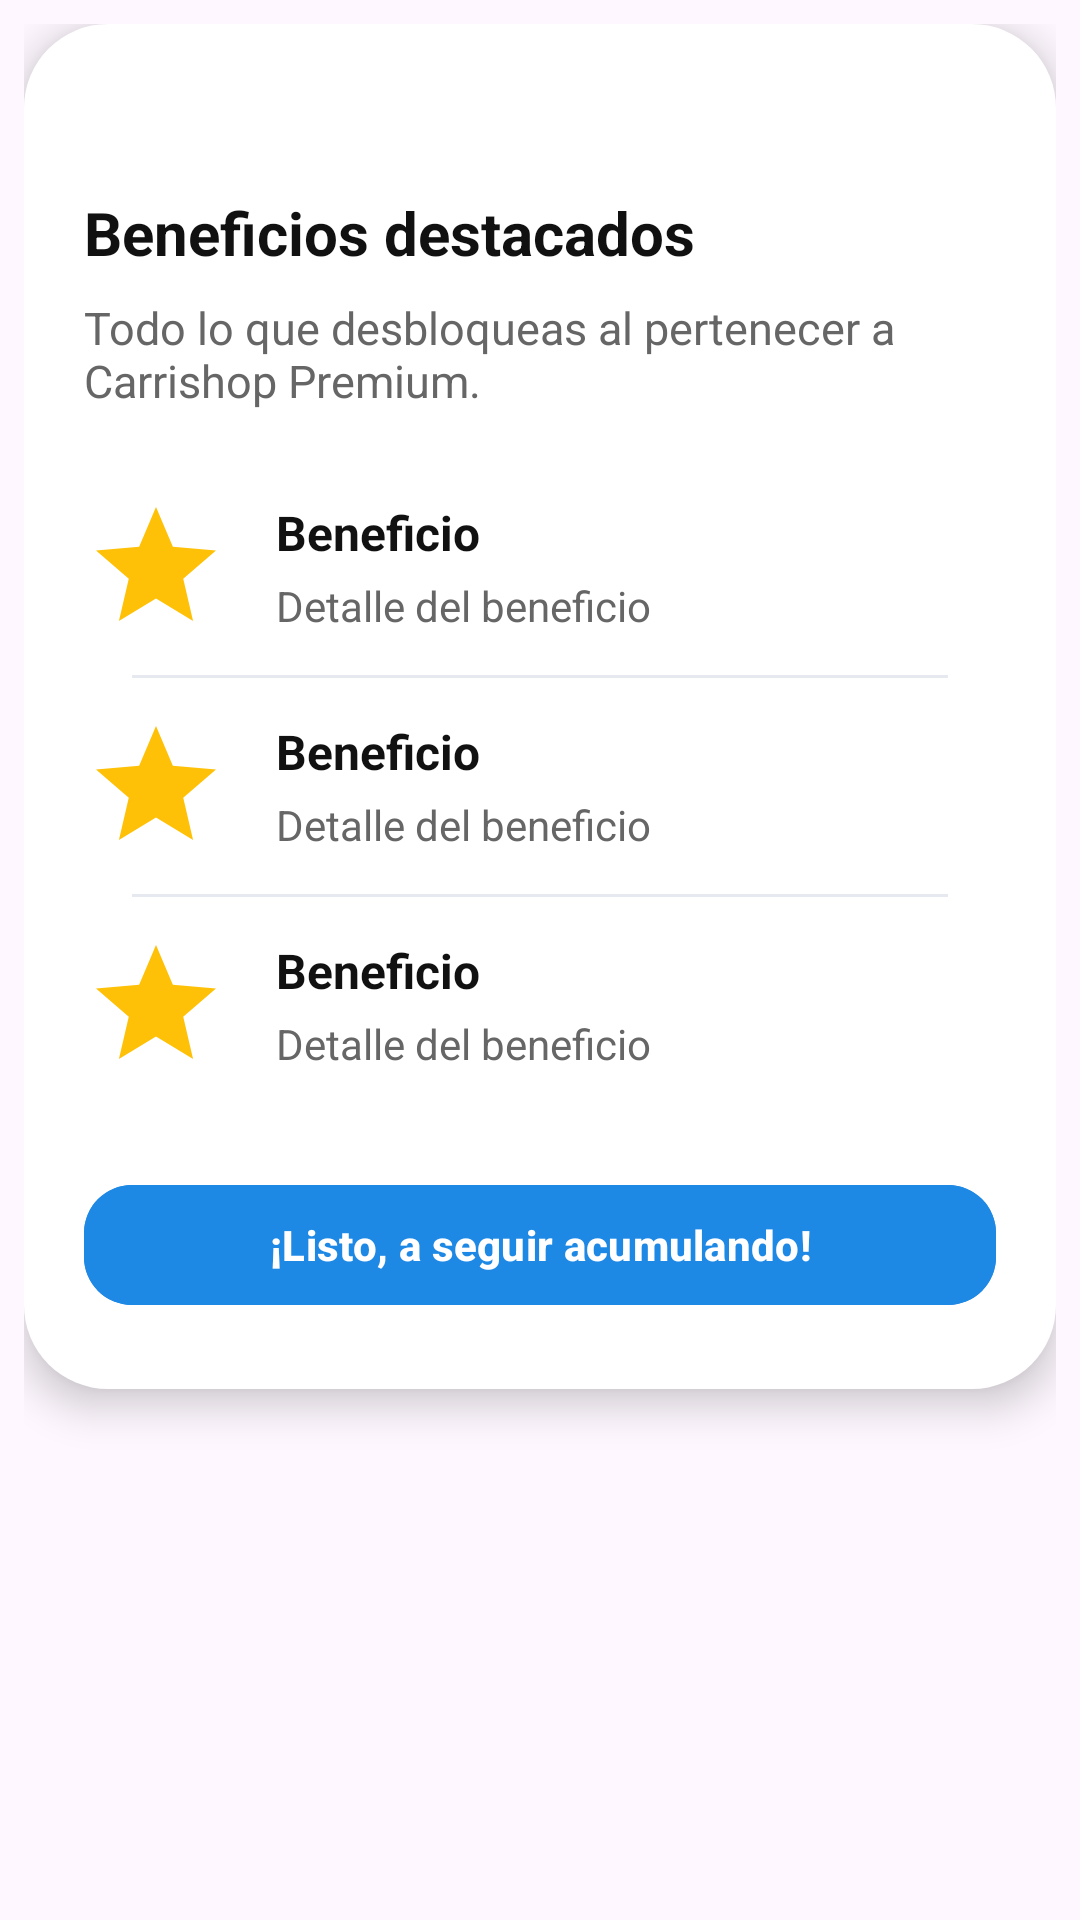

Point at icon controls on the screen. Image size 1080×1920, points as (x,y).
estrella llena: (156,564), (156,783), (156,1002)
